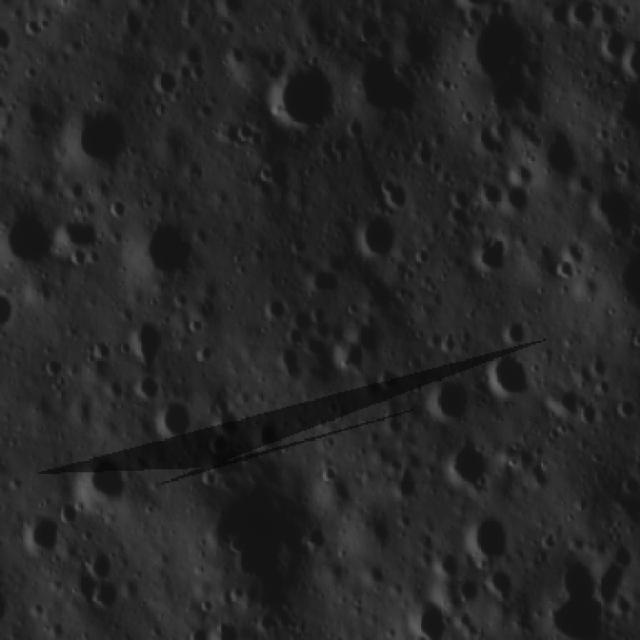crater: (454, 11, 544, 112), (262, 52, 343, 139), (61, 97, 138, 175), (346, 51, 425, 127), (130, 210, 204, 290), (1, 200, 65, 278), (64, 447, 130, 515), (529, 124, 593, 188), (346, 208, 408, 264), (48, 208, 106, 264), (456, 511, 516, 563), (466, 224, 516, 284), (394, 592, 458, 638), (440, 435, 495, 488), (421, 376, 474, 429), (120, 314, 172, 368), (15, 509, 66, 563), (481, 348, 532, 399), (148, 398, 198, 447), (544, 376, 591, 426), (205, 406, 249, 449), (252, 416, 292, 462), (88, 576, 130, 619), (594, 26, 634, 66), (561, 2, 607, 36), (77, 546, 120, 582), (489, 562, 522, 604), (502, 312, 538, 350), (148, 66, 185, 102), (130, 370, 164, 407), (258, 289, 288, 325), (451, 576, 482, 606), (230, 118, 262, 144)
